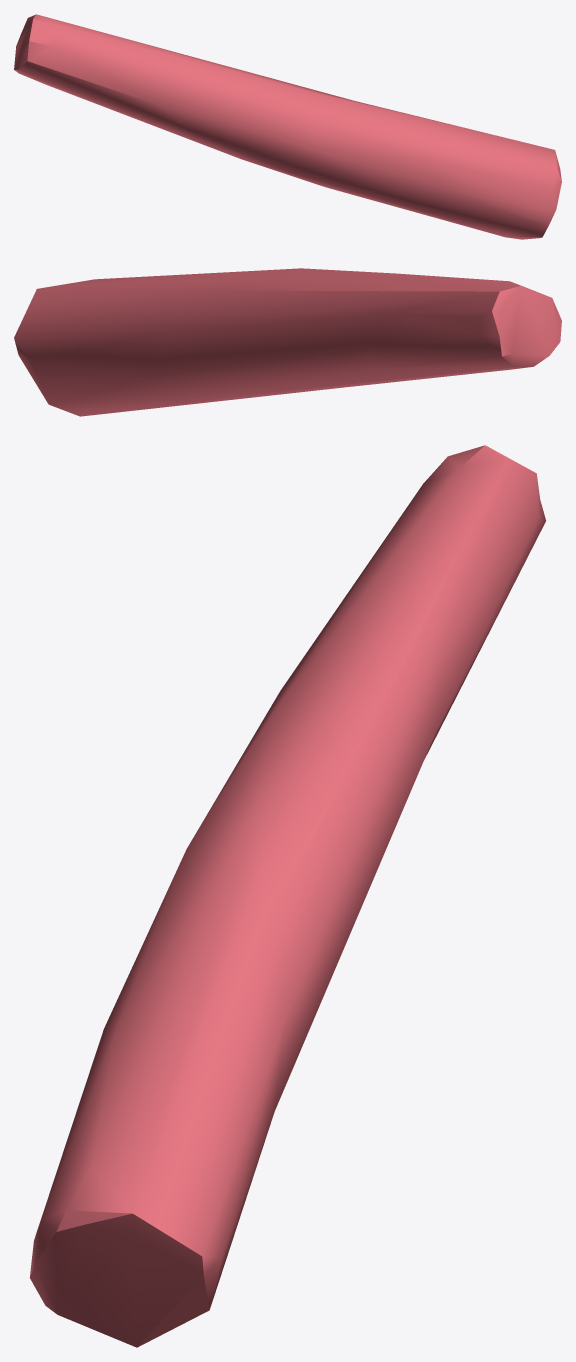
Rendered from fma68677_fj2980.glb.
The picture shows the model from 3 angles, top to bottom: view 1: azimuth 30°, elevation 25°; view 2: azimuth 150°, elevation 25°; view 3: azimuth 270°, elevation 25°; orthographic projection. The views are drawn at different scales.
Parts seen in each view (by area): view 1: FMA68677_FJ2980; view 2: FMA68677_FJ2980; view 3: FMA68677_FJ2980.
Boxes of the visible parts, x1,y1,x2,y2 form: FMA68677_FJ2980: [14, 14, 561, 239]; FMA68677_FJ2980: [14, 268, 561, 416]; FMA68677_FJ2980: [29, 445, 545, 1347].
Size of the model in its own units: 0.0169 by 0.00907 by 0.00832.
